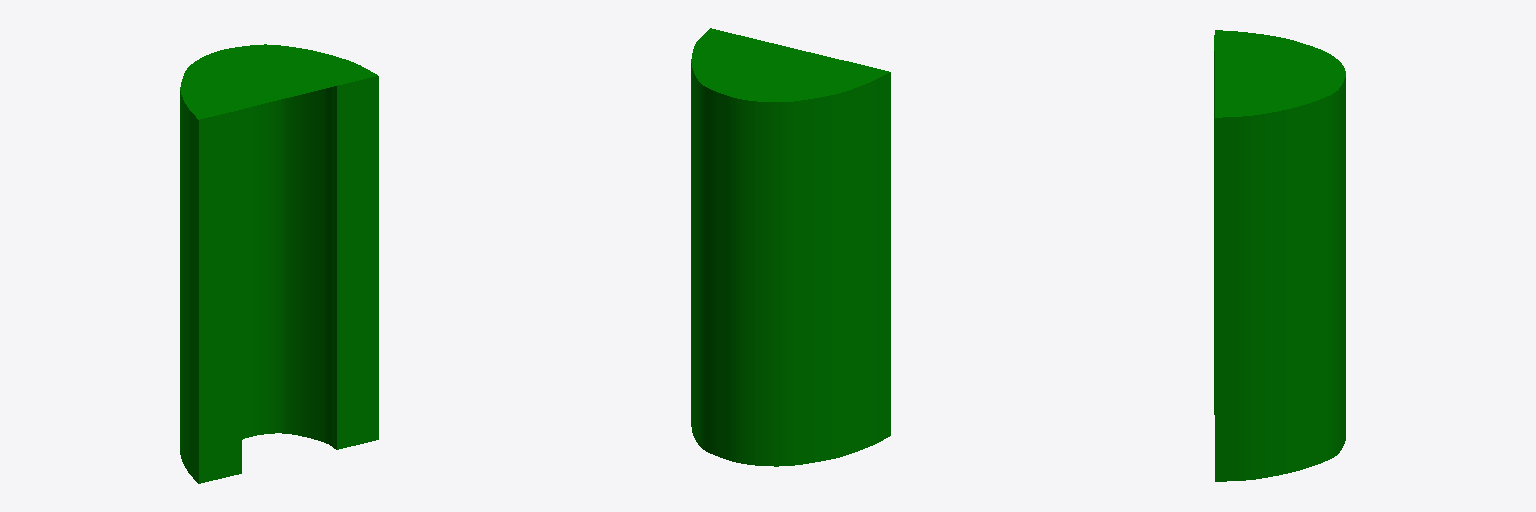
The model's file is Rainbow_green.obj.
3 renders of one model, left to right at view 1: azimuth 30°, elevation 25°; view 2: azimuth 150°, elevation 25°; view 3: azimuth 270°, elevation 25°, orthographic.
Visible parts, largest first — view 1: Line001; view 2: Line001; view 3: Line001.
Boxes of the visible parts, <box> form: Line001: <box>180,44,378,483</box>; Line001: <box>691,28,890,466</box>; Line001: <box>1214,30,1345,481</box>.
Bounding box in the file's own units: 55.18 × 107 × 34.95.